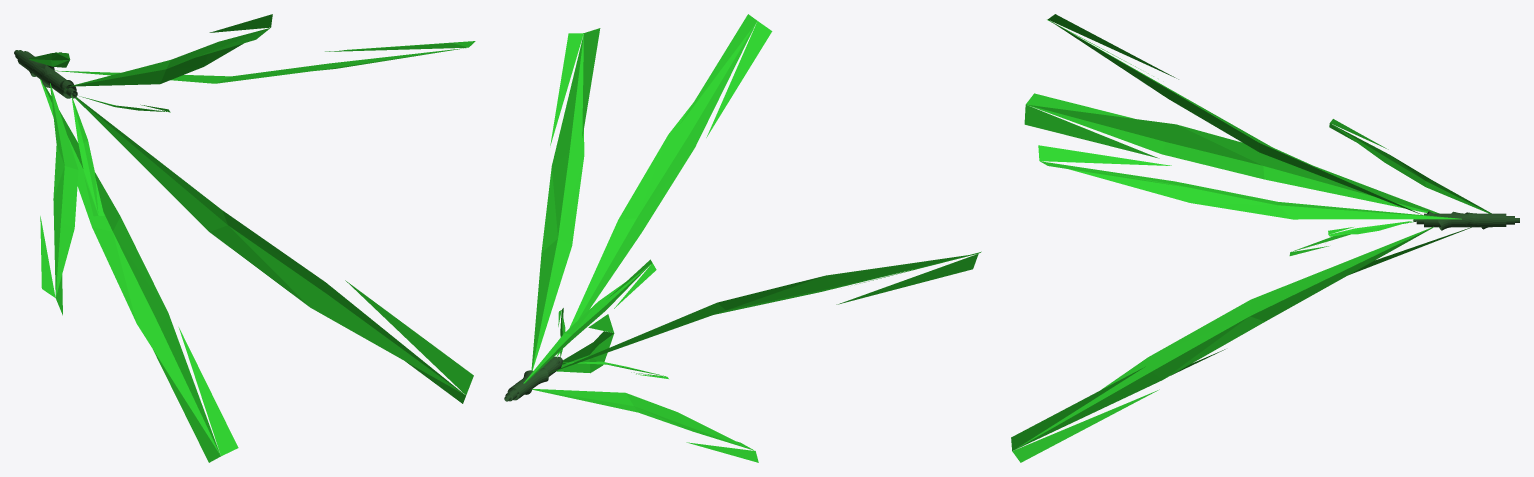
File: onion_2.dae
The picture shows the model from 3 angles, left to right: view 1: azimuth 30°, elevation 25°; view 2: azimuth 150°, elevation 25°; view 3: azimuth 270°, elevation 25°; orthographic projection. The views are drawn at different scales.
Visible parts, largest first — view 1: node; view 2: node; view 3: node.
Part boxes in pixels (x1,y1,x2,y2): node: [14, 14, 475, 462]; node: [504, 14, 981, 462]; node: [1011, 14, 1519, 462].
Bounding box in the file's own units: 0.2275 × 0.2258 × 0.2533.
